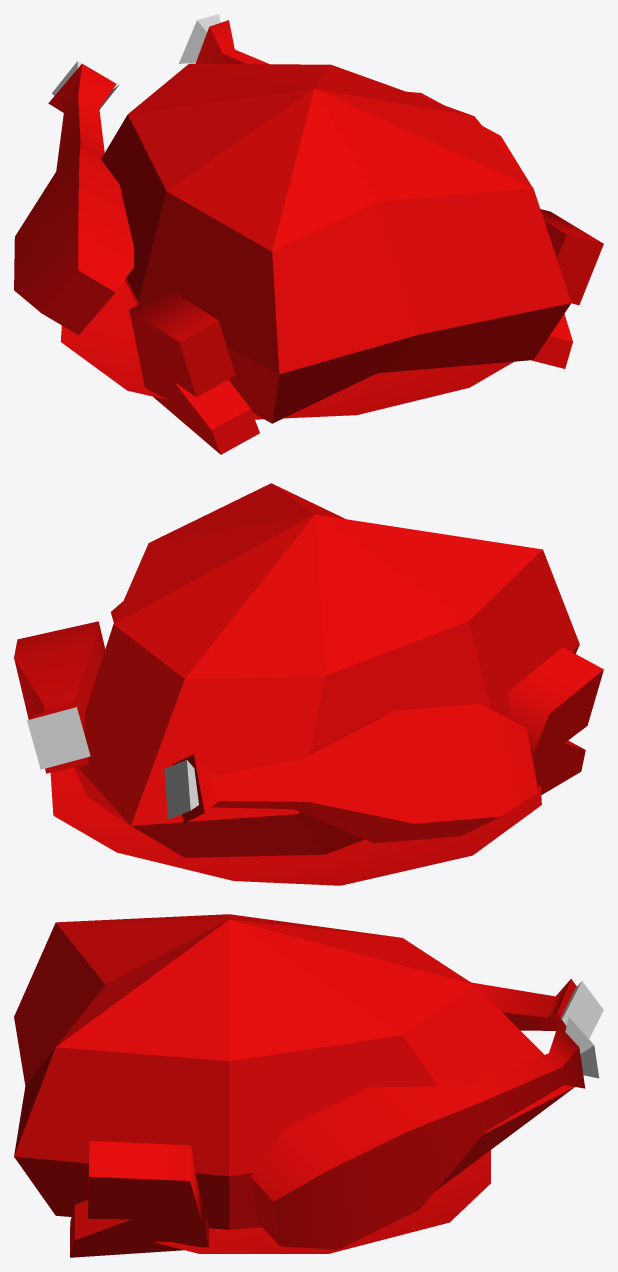
Rendered from Kalkun_FBX.fbx.
3 renders of one model, top to bottom at view 1: azimuth 30°, elevation 25°; view 2: azimuth 150°, elevation 25°; view 3: azimuth 270°, elevation 25°, orthographic. The views are drawn at different scales.
Visible parts, largest first — view 1: polySurface1; view 2: polySurface1; view 3: polySurface1.
Boxes of the visible parts, x1=… form: polySurface1: x1=14, y1=14, x2=603, y2=454; polySurface1: x1=14, y1=483, x2=603, y2=885; polySurface1: x1=14, y1=914, x2=603, y2=1257.
Size of the model in its own units: 0.9871 by 0.5349 by 1.07.
